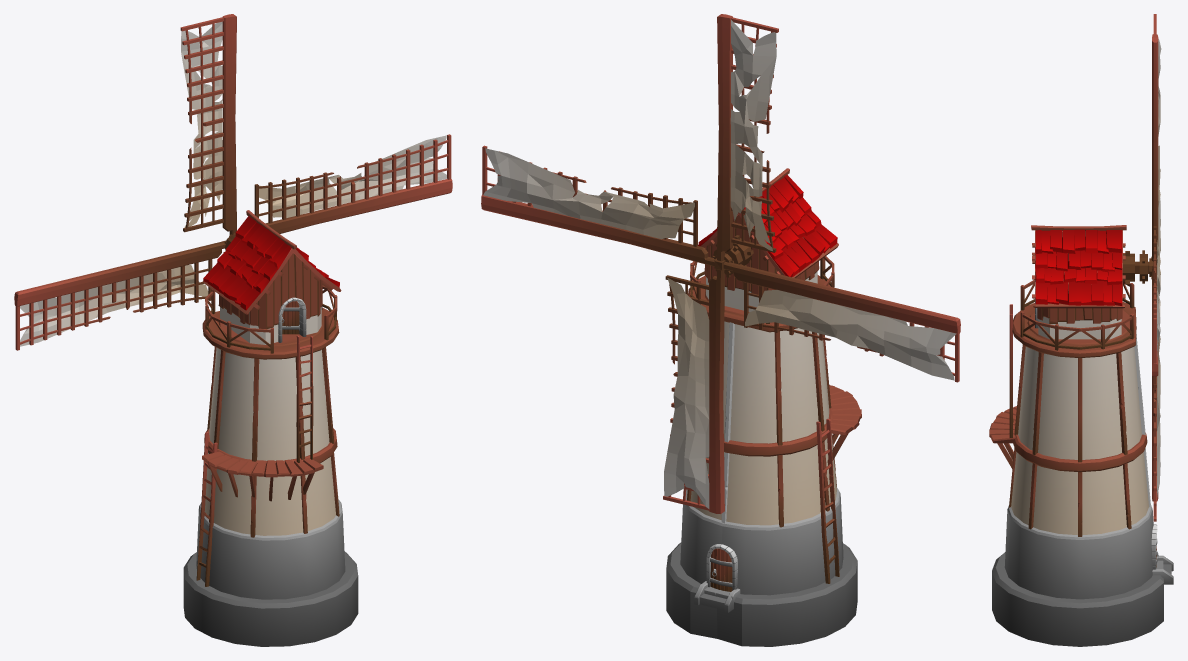
File: Windmill1.fbx
3 renders of one model, left to right at view 1: azimuth 30°, elevation 25°; view 2: azimuth 150°, elevation 25°; view 3: azimuth 270°, elevation 25°, orthographic. The views are drawn at different scales.
Visible parts, largest first — view 1: Windmill1, Rotation; view 2: Windmill1, Rotation; view 3: Windmill1, Rotation.
Boxes of the visible parts, left/top/right/bottom form: Windmill1: left=183, top=210, right=358, bottom=646; Rotation: left=14, top=14, right=452, bottom=350; Windmill1: left=666, top=168, right=861, bottom=646; Rotation: left=481, top=14, right=960, bottom=513; Windmill1: left=989, top=225, right=1173, bottom=646; Rotation: left=1135, top=14, right=1161, bottom=521.
Size of the model in its own units: 30.79 by 38.4 by 11.23.
